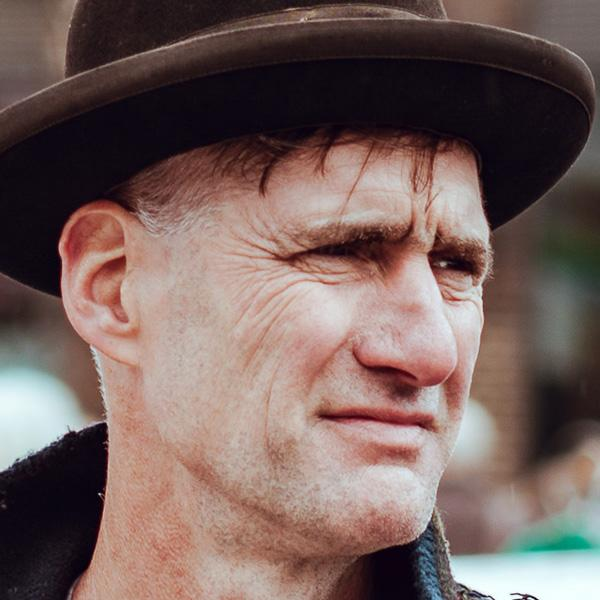Eyes: (285, 226, 379, 280), (425, 236, 492, 296)
